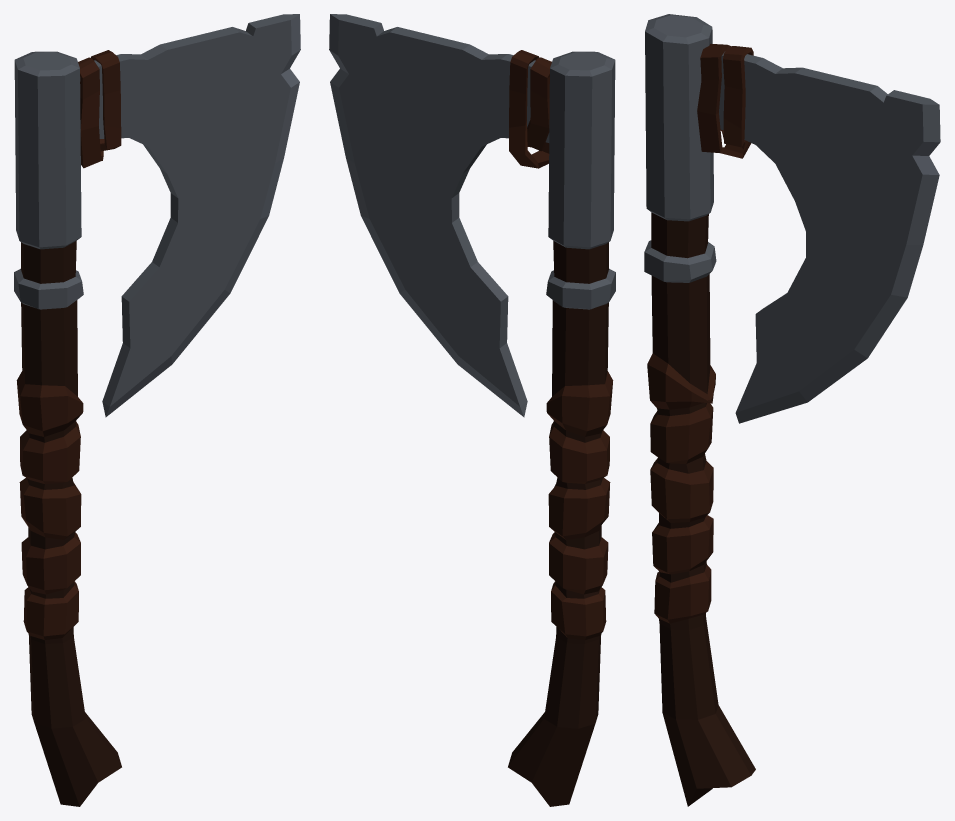
File: Axe_Small.obj
3 renders of one model, left to right at view 1: azimuth 30°, elevation 25°; view 2: azimuth 150°, elevation 25°; view 3: azimuth 330°, elevation 25°, orthographic. The views are drawn at different scales.
Parts seen in each view (by area): view 1: Axe_small_Cylinder.020; view 2: Axe_small_Cylinder.020; view 3: Axe_small_Cylinder.020.
Part boxes in pixels (bbox=[...]): Axe_small_Cylinder.020: bbox=[14, 14, 300, 806]; Axe_small_Cylinder.020: bbox=[329, 14, 615, 806]; Axe_small_Cylinder.020: bbox=[644, 14, 940, 806].
Bounding box in the file's own units: 1.17 × 2.96 × 0.2483.
